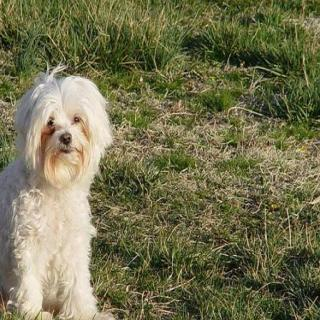dog: (15, 68, 110, 191)
nose: (59, 129, 74, 149)
